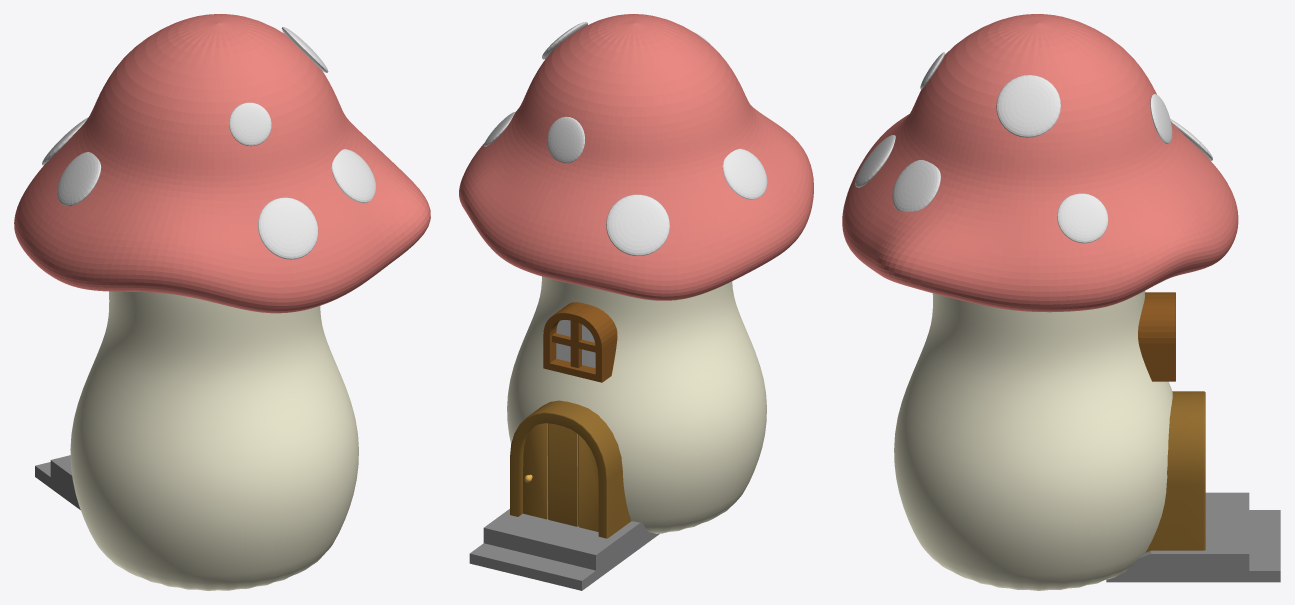
File: mushroom2.fbx
3 views of the same model, side by side, from view 1: azimuth 30°, elevation 25°; view 2: azimuth 150°, elevation 25°; view 3: azimuth 270°, elevation 25° (orthographic). The views are drawn at different scales.
Parts seen in each view (by area): view 1: Sphere.001, Sphere, Sphere.007, Sphere.009, Sphere.002, Sphere.008, Cube; view 2: Sphere.001, Sphere, Cube.001, Cube, Cube.002, Sphere.003, Sphere.002, Sphere.004, Cube.003; view 3: Sphere.001, Sphere, Cube, Cube.001, Sphere.006, Cube.002, Sphere.005, Sphere.009, Sphere.007, Sphere.004.
Part boxes in pixels (x1,y1,x2,y2): Sphere.001: [14, 14, 430, 313]; Sphere: [70, 291, 358, 590]; Sphere.007: [258, 197, 318, 259]; Sphere.009: [331, 149, 375, 203]; Sphere.002: [57, 152, 101, 206]; Sphere.008: [229, 102, 271, 146]; Cube: [35, 455, 80, 509]; Sphere.001: [459, 14, 813, 300]; Sphere: [507, 276, 766, 533]; Cube.001: [510, 400, 630, 538]; Cube: [469, 509, 659, 590]; Cube.002: [543, 302, 617, 382]; Sphere.003: [606, 194, 669, 256]; Sphere.002: [722, 148, 767, 199]; Sphere.004: [547, 116, 584, 163]; Cube.003: [556, 320, 595, 368]; Sphere.001: [842, 14, 1238, 312]; Sphere: [894, 291, 1172, 590]; Cube: [1106, 492, 1280, 582]; Cube.001: [1145, 391, 1205, 552]; Sphere.006: [996, 75, 1060, 137]; Cube.002: [1138, 292, 1175, 381]; Sphere.005: [1057, 193, 1108, 243]; Sphere.009: [892, 160, 940, 211]; Sphere.007: [855, 135, 895, 187]; Sphere.004: [1150, 94, 1172, 143].
Size of the model in its own units: 267 by 400 by 295.
